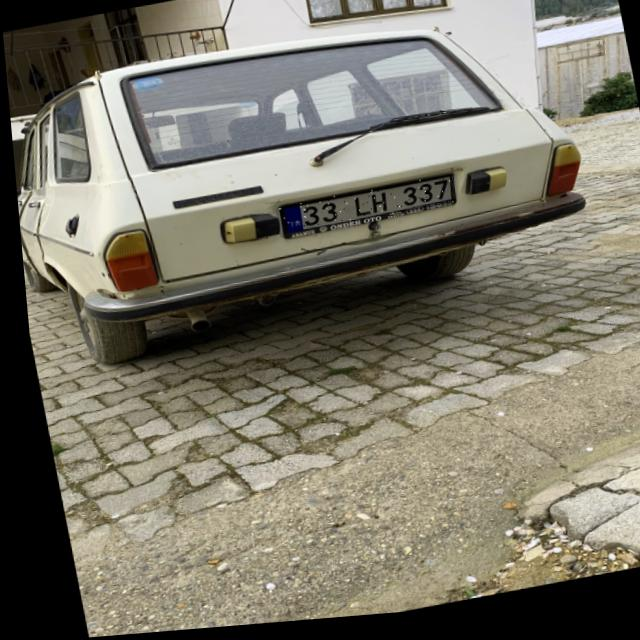license_plate: (273, 181, 454, 238)
